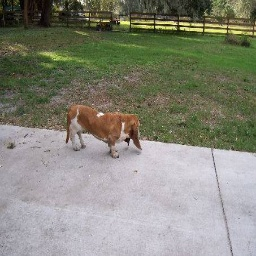dog: (63, 104, 144, 163)
